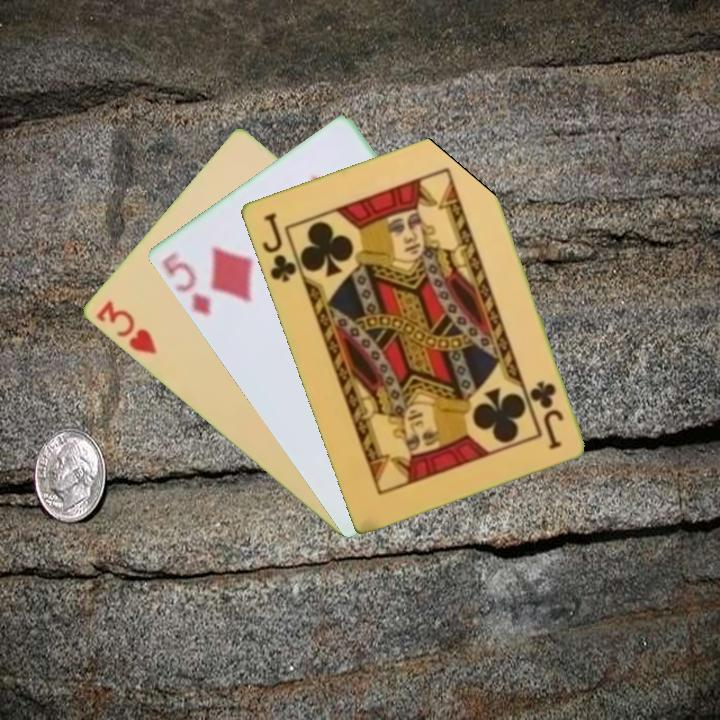3h: (91, 297, 159, 358)
5d: (158, 253, 214, 319)
Jc: (258, 209, 305, 285), (526, 377, 566, 452)
